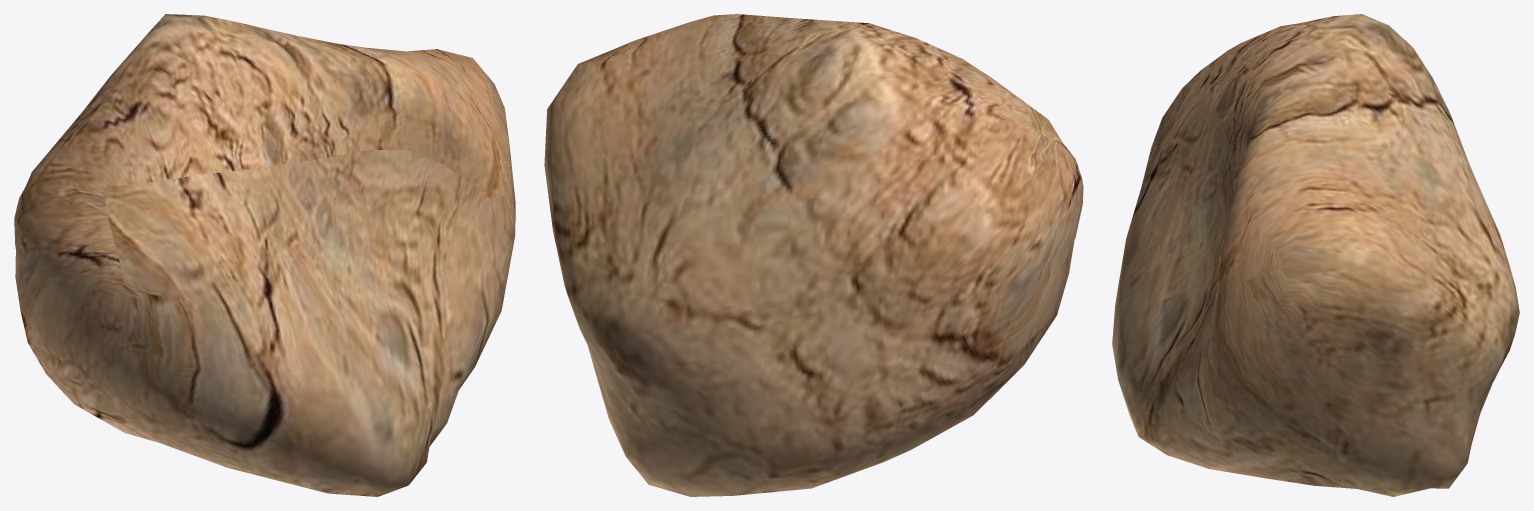
File: tas3.fbx
The picture shows the model from 3 angles, left to right: view 1: azimuth 30°, elevation 25°; view 2: azimuth 150°, elevation 25°; view 3: azimuth 270°, elevation 25°; orthographic projection. The views are drawn at different scales.
Parts seen in each view (by area): view 1: rock5; view 2: rock5; view 3: rock5.
Boxes of the visible parts, x1,y1,x2,y2 form: rock5: [14, 14, 515, 496]; rock5: [544, 14, 1083, 496]; rock5: [1112, 14, 1519, 496].
Size of the model in its own units: 30.03 by 27.56 by 24.56.
